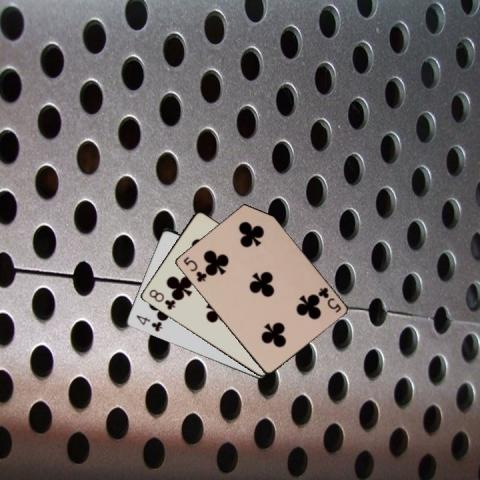4c: (133, 312, 163, 333)
5c: (314, 284, 342, 314), (180, 253, 207, 284)
8c: (145, 286, 177, 311)
